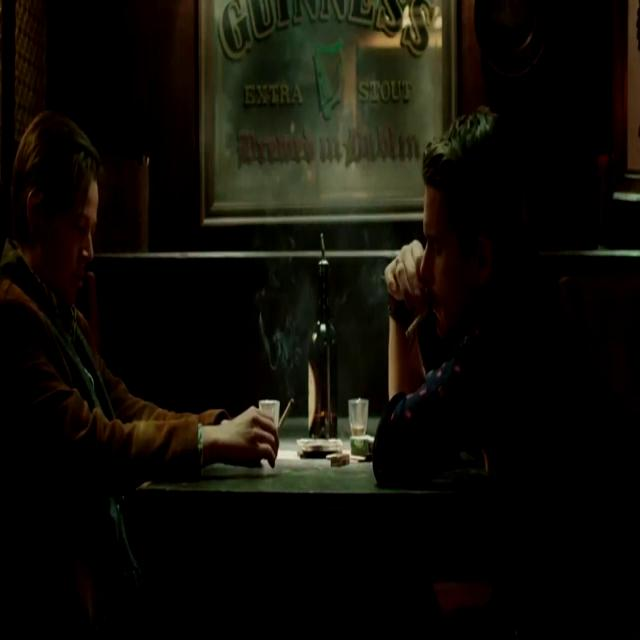Smooking: (274, 378, 296, 443)
